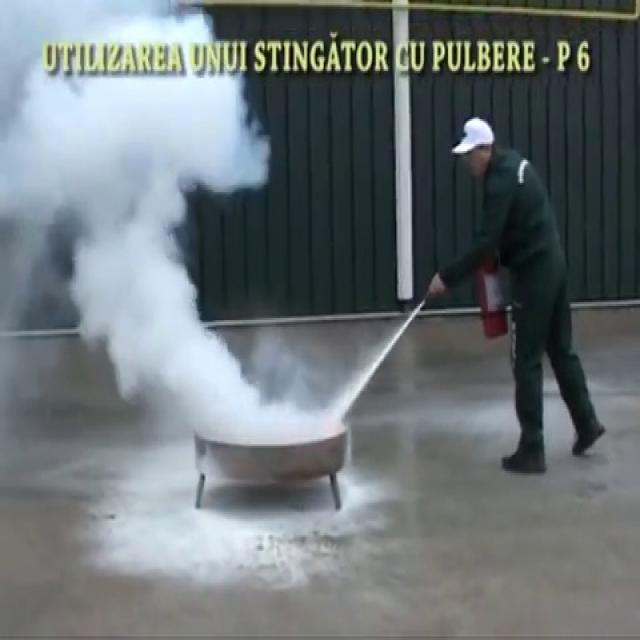Smoke: (0, 0, 287, 443)
